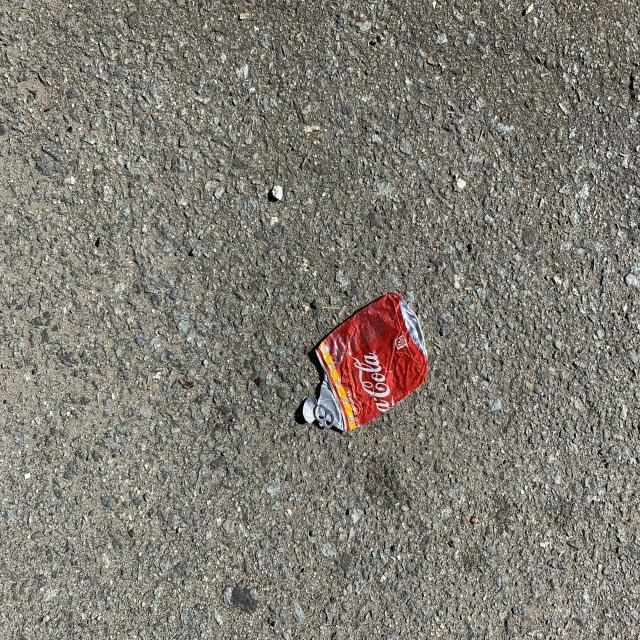litter: (303, 293, 427, 431), (314, 404, 335, 427)
